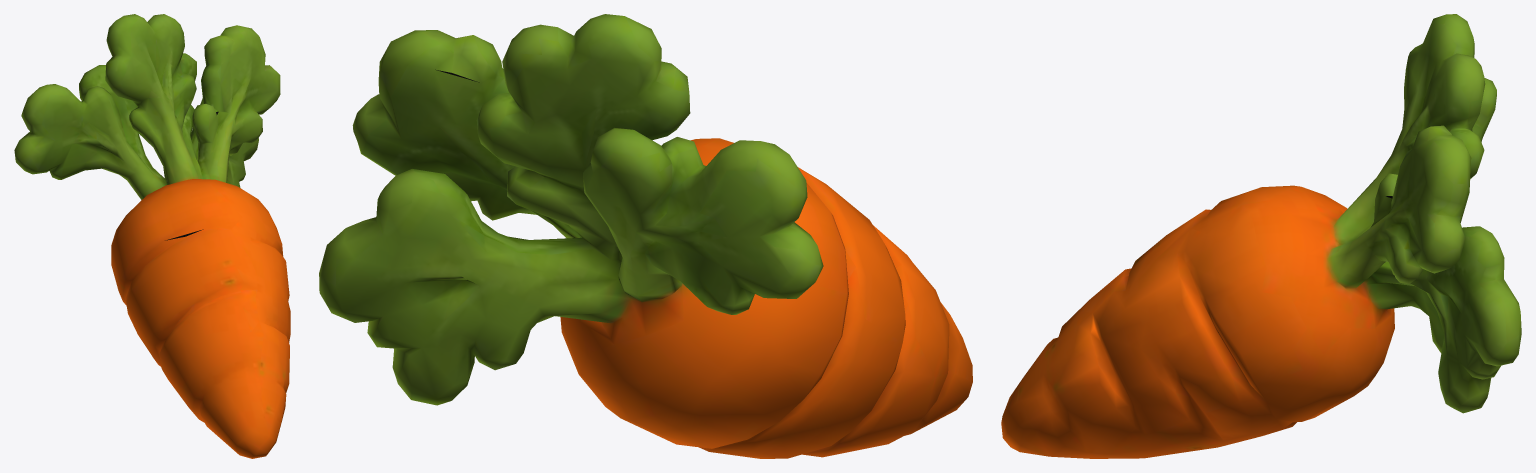
3 views of the same model, side by side, from view 1: azimuth 30°, elevation 25°; view 2: azimuth 150°, elevation 25°; view 3: azimuth 270°, elevation 25° (orthographic). The views are drawn at different scales.
Parts seen in each view (by area): view 1: carrot; view 2: carrot; view 3: carrot.
Boxes of the visible parts, x1=… form: carrot: x1=14, y1=14, x2=290, y2=458; carrot: x1=319, y1=14, x2=972, y2=458; carrot: x1=1001, y1=14, x2=1521, y2=458.
Size of the model in its own units: 0.2094 by 0.2495 by 0.261.
Materials: 1 (1 with a texture image).
